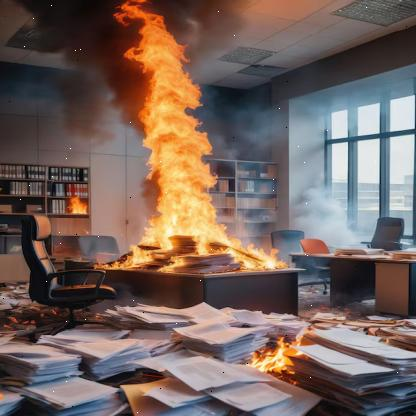fire: (96, 4, 284, 272), (253, 319, 313, 379)
smoke: (174, 0, 375, 274), (0, 0, 137, 189)
